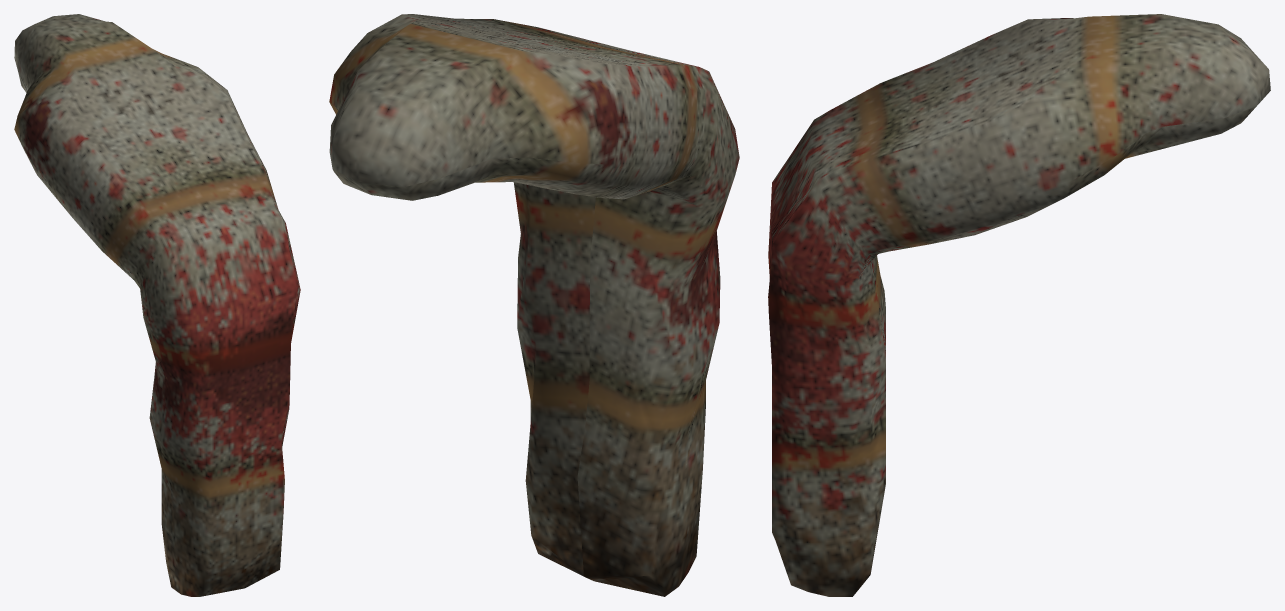
File: BodyBagPose3.fbx
3 renders of one model, left to right at view 1: azimuth 30°, elevation 25°; view 2: azimuth 150°, elevation 25°; view 3: azimuth 270°, elevation 25°, orthographic. The views are drawn at different scales.
Visible parts, largest first — view 1: BodyBag; view 2: BodyBag; view 3: BodyBag.
Part boxes in pixels (box(x1,y1,x2,y2)): BodyBag: box(14, 14, 300, 596); BodyBag: box(329, 14, 739, 596); BodyBag: box(768, 14, 1270, 596).
Bounding box in the file's own units: 135 × 308 × 256.
